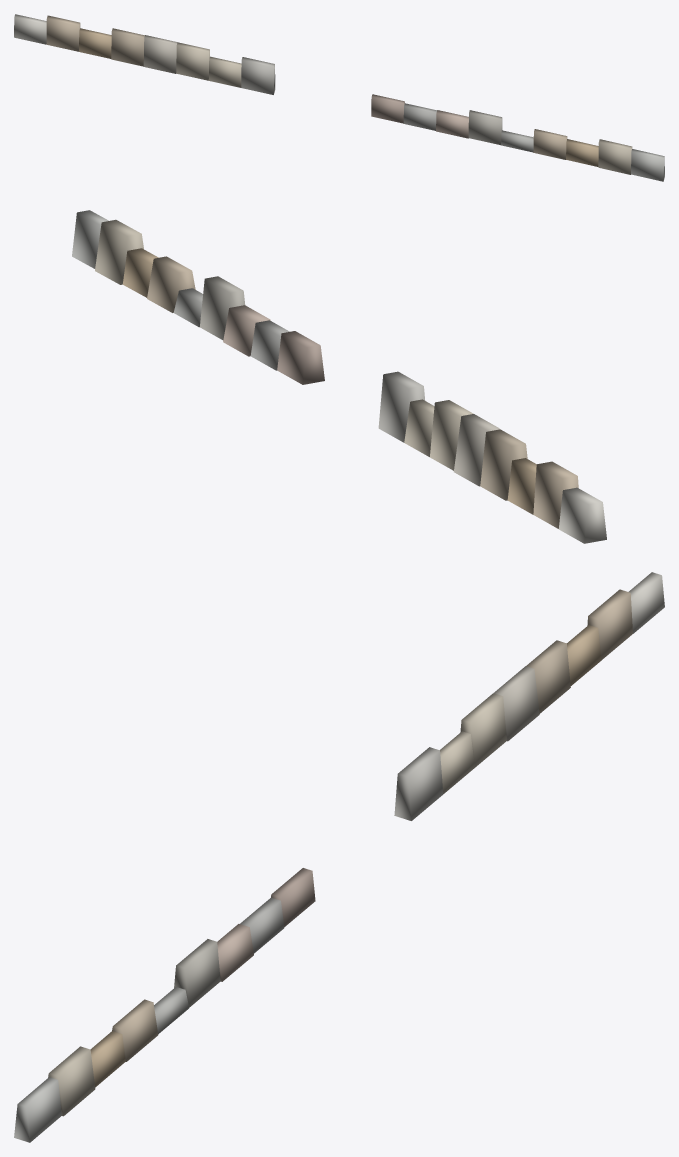
The model's file is farm_-24_-20_collision.glb.
3 views of the same model, one above another, from view 1: azimuth 30°, elevation 25°; view 2: azimuth 150°, elevation 25°; view 3: azimuth 270°, elevation 25° (orthographic). The views are drawn at different scales.
Visible parts, largest first — view 1: geometry_0; view 2: geometry_0; view 3: geometry_0.
Boxes of the visible parts, x1=… form: geometry_0: x1=14, y1=14, x2=664, y2=181; geometry_0: x1=72, y1=210, x2=606, y2=543; geometry_0: x1=14, y1=572, x2=664, y2=1142.
Size of the model in its own units: 25.63 by 6.95 by 19.49.
